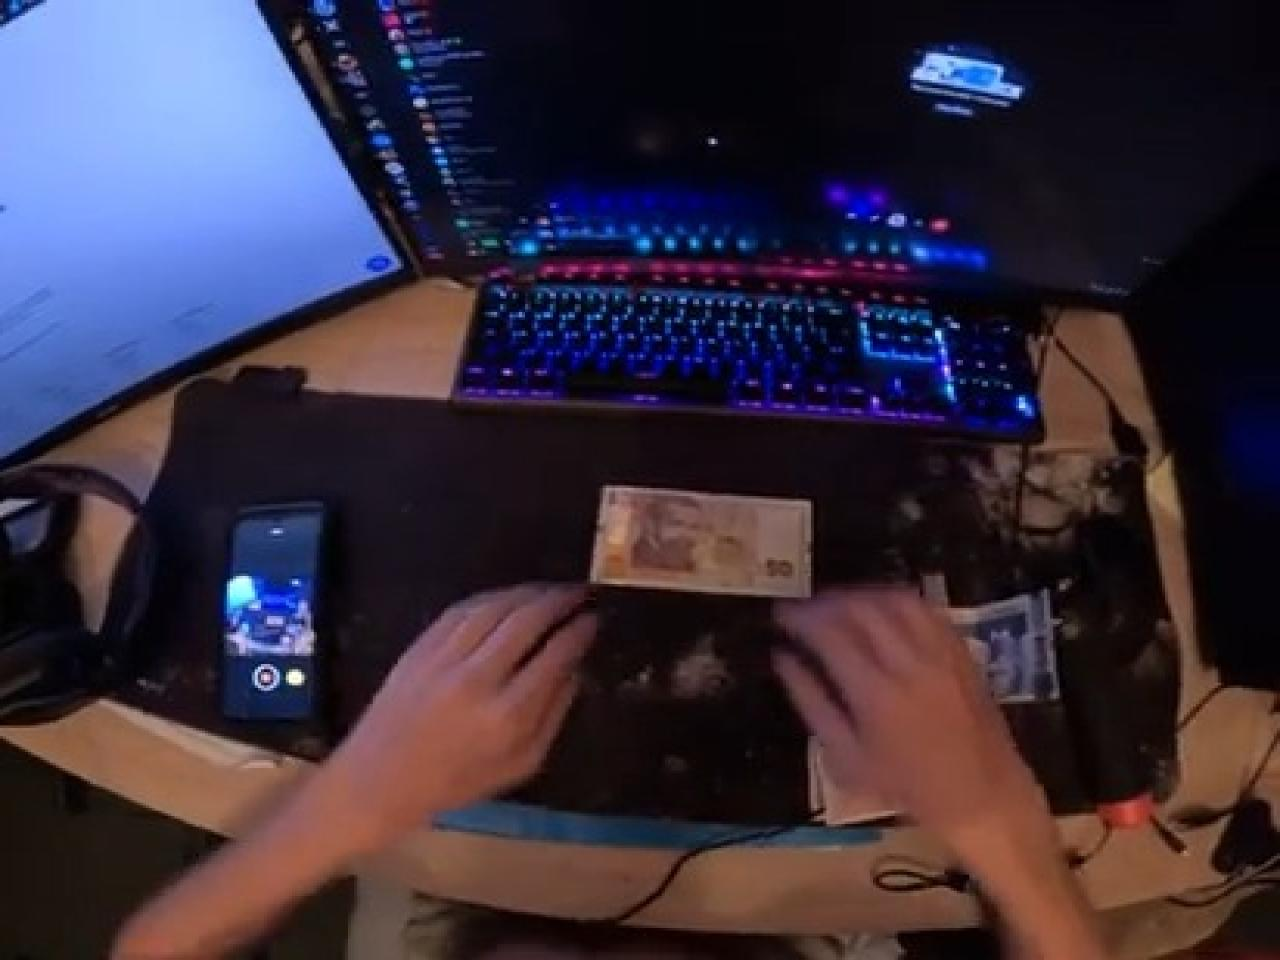50leva: (594, 485, 814, 605)
